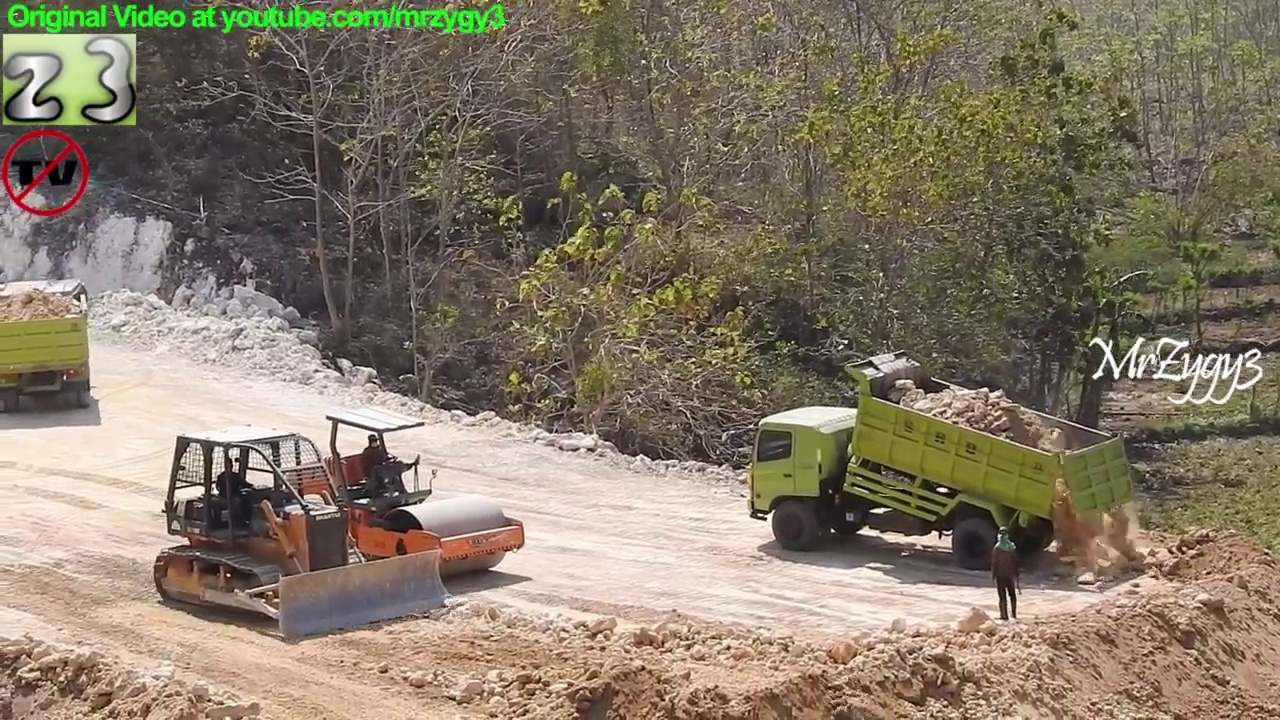bulldozer: (151, 420, 454, 645)
truck: (729, 345, 1138, 578), (264, 399, 530, 586), (1, 274, 100, 420)
